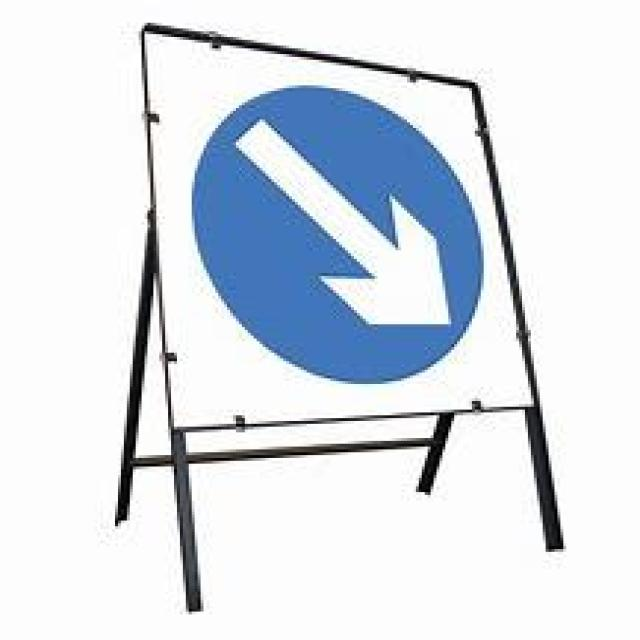COMPULSARY_KEEP_RIGHT: (187, 82, 487, 387)
